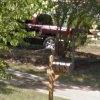Tree: (8, 2, 98, 55)
